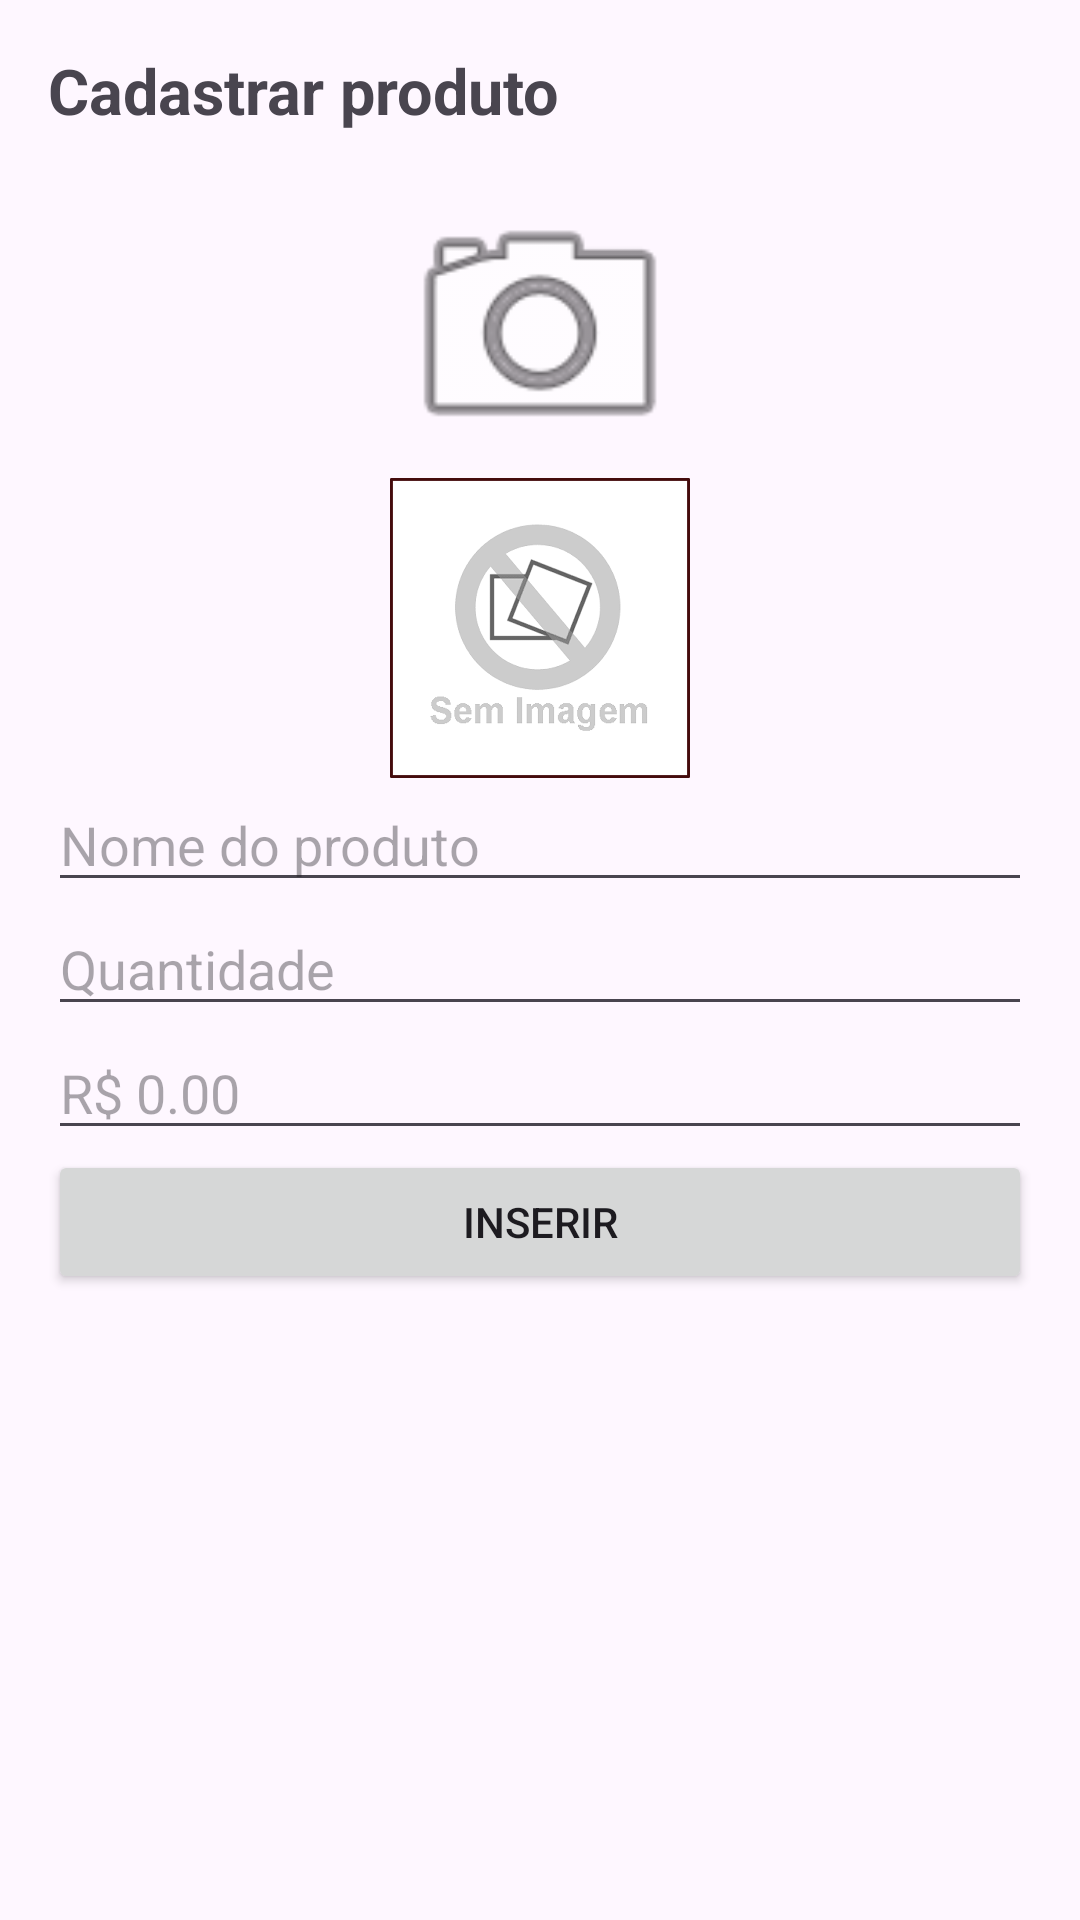

Icon bounding boxes for this 1080w x 1920h phone screenshot, format (x1, y1, x2, y2):
camera: (424, 231, 656, 416)
